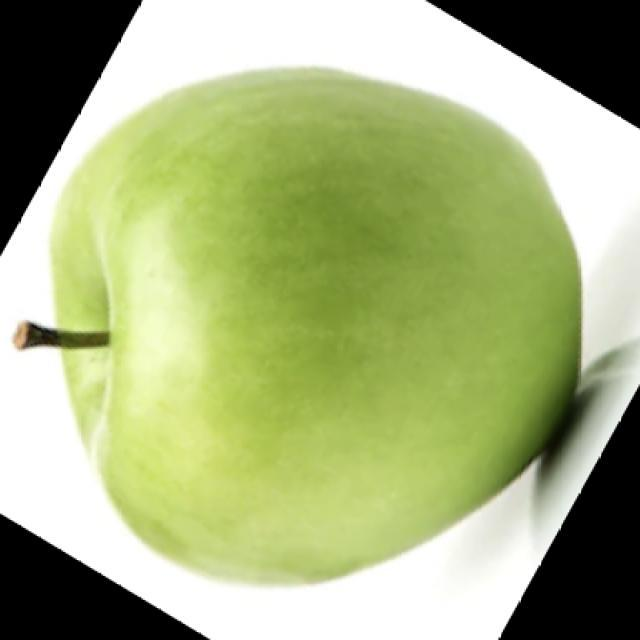Fresh Apple: (48, 72, 590, 586)
